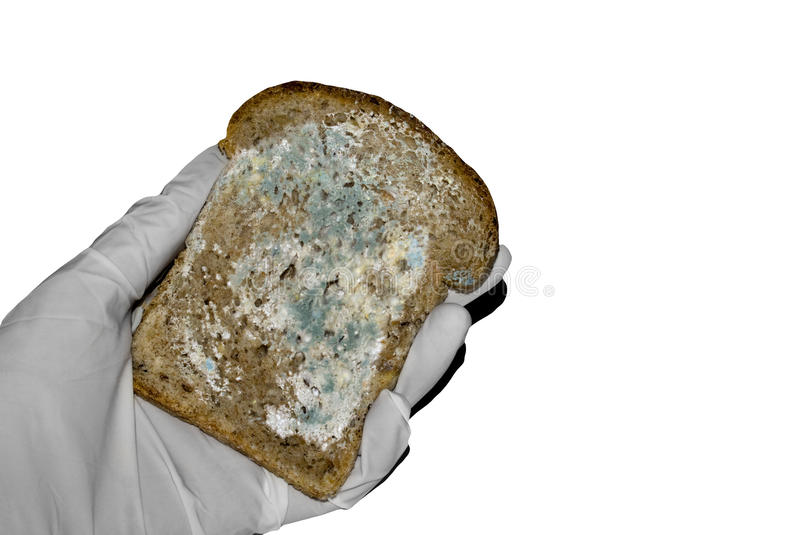Mucor: (230, 129, 433, 324), (271, 334, 353, 447), (165, 321, 238, 401), (200, 354, 216, 373)
